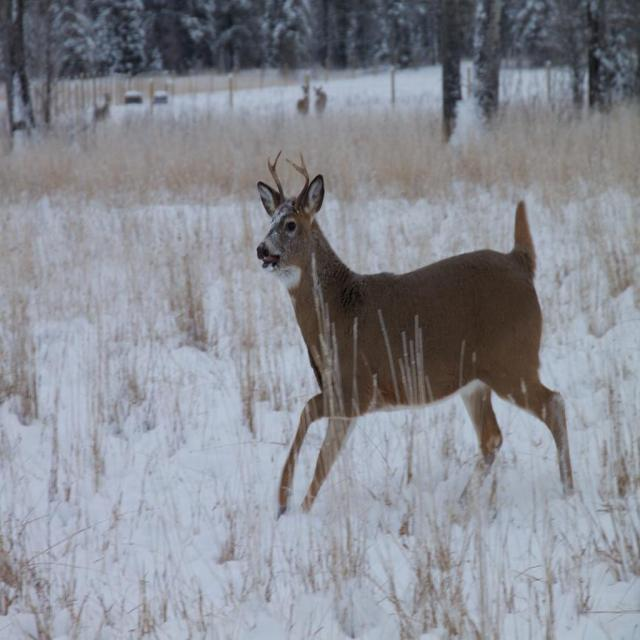Deer: (253, 149, 574, 516)
